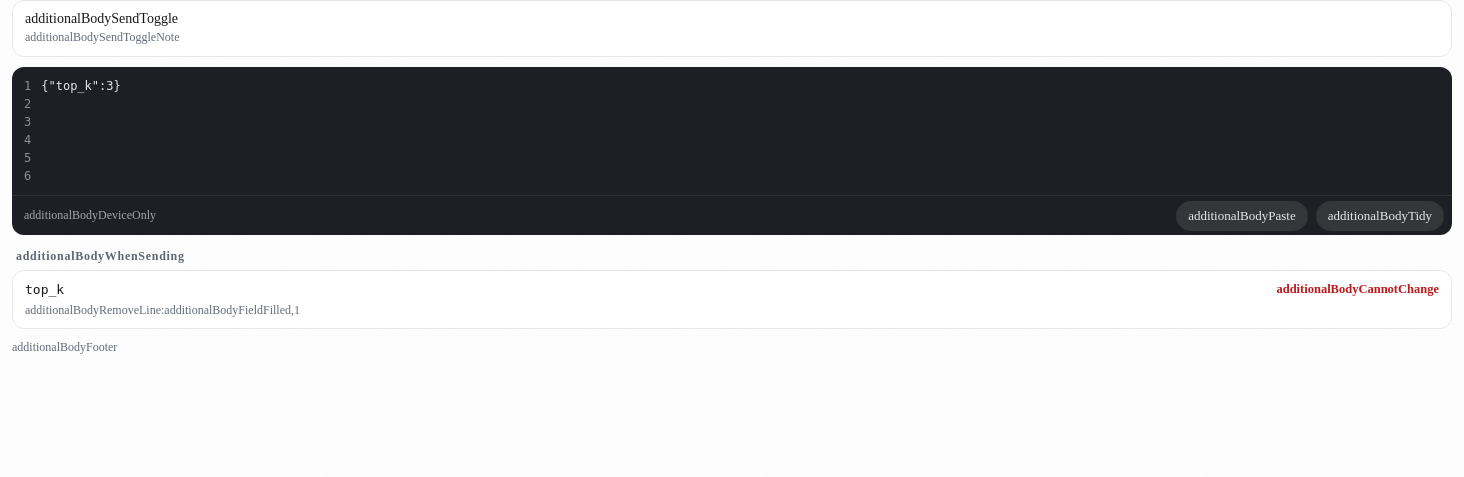
Test: AdditionalBodyEditor › paste: existing content asks for confirmation before being replaced; hidden when the clipboard is unavailable
Click the button "additionalBodyPaste" at (1242, 216), box [1176,201,1308,231]
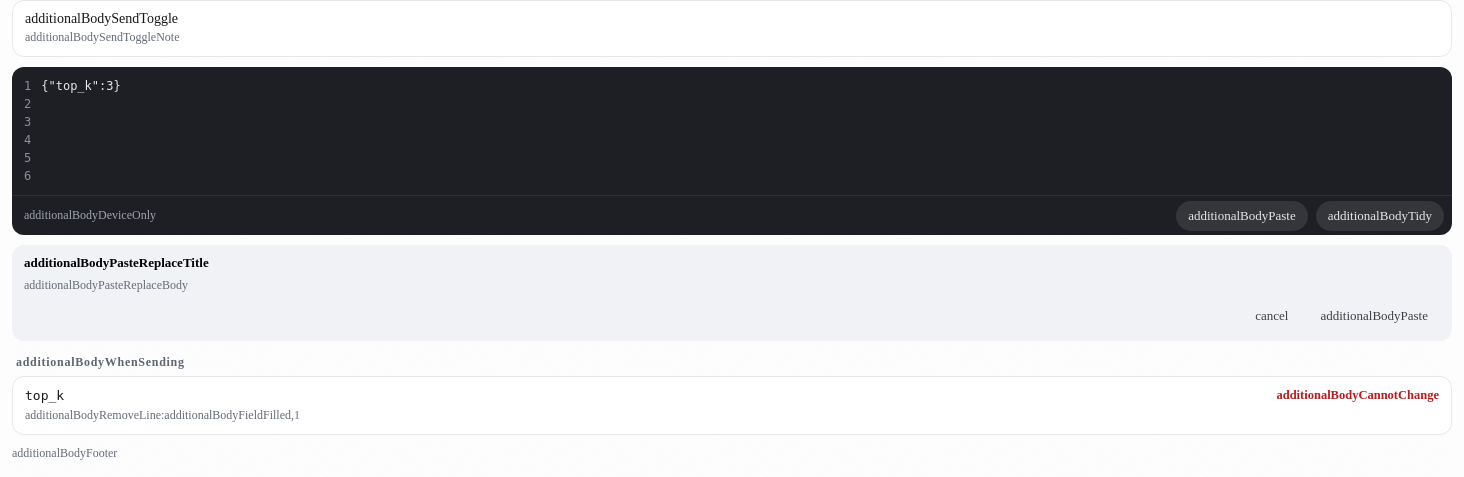
Result: the text "additionalBodyPasteReplaceTitle" is shown at [24,255,209,270]
Click the button with test id "additional-body-paste-confirm" at (1374, 316), box [1308,301,1440,331]
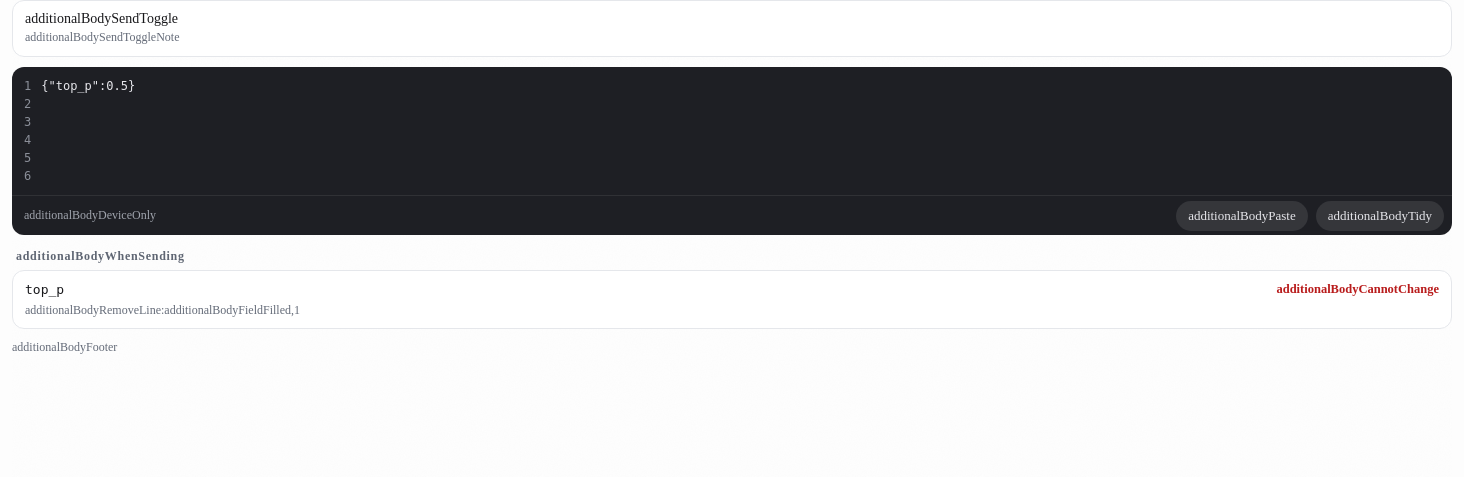
Result: the text box holds "{\"top_p\":0.5}" at [41,77,1452,185]
